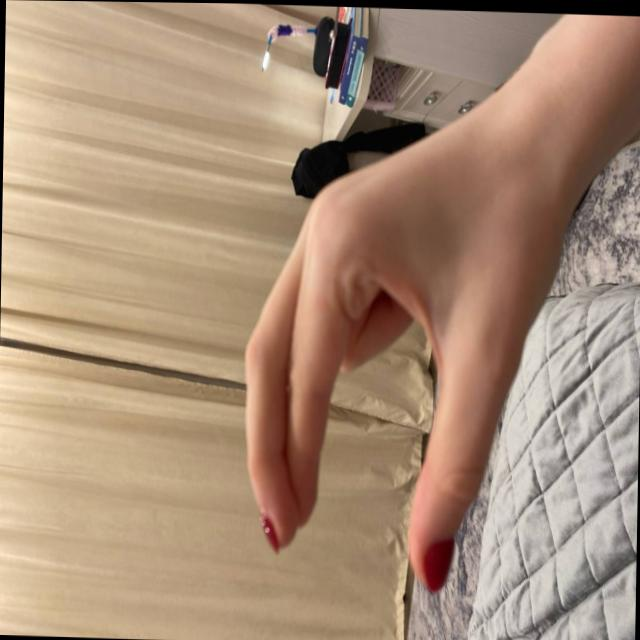ia: (241, 103, 599, 573)
